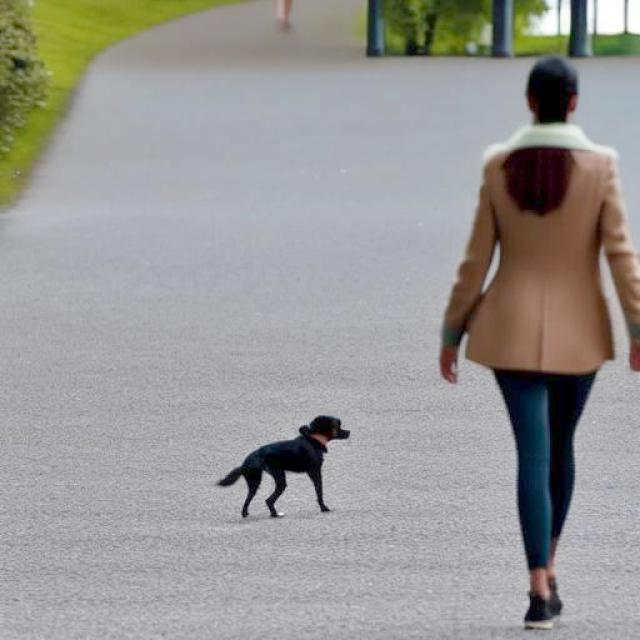Unleashed_Dog: (213, 371, 598, 521)
